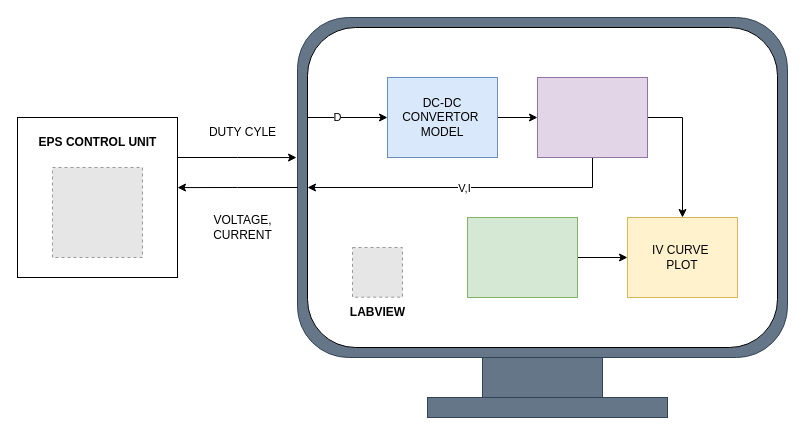
This 805x435 diagram has some shape labels left out. Grey dashed boxes stand in for pictures. Each missing label, with the centre of its shape:
"ORBITAL PROPAGATOR" goes at (x=522, y=257).
"SOLAR PANEL MODEL" goes at (x=592, y=117).
